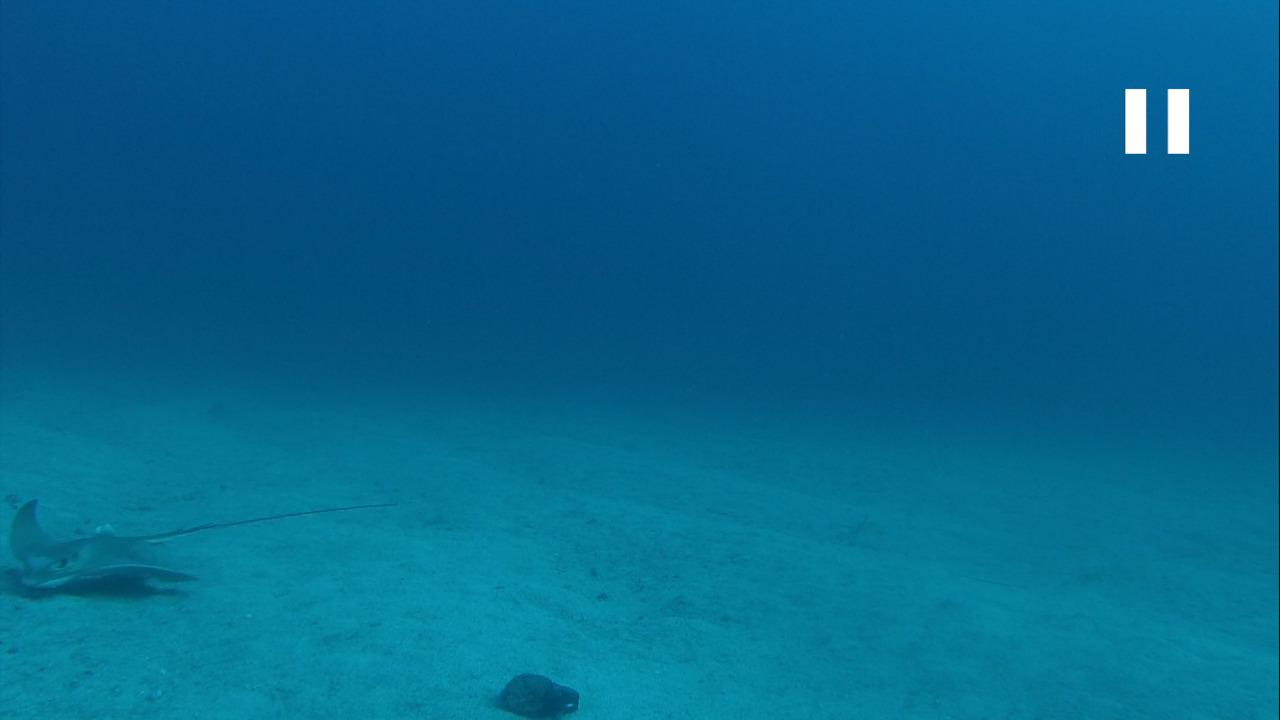myliobatis: (4, 490, 401, 604)
